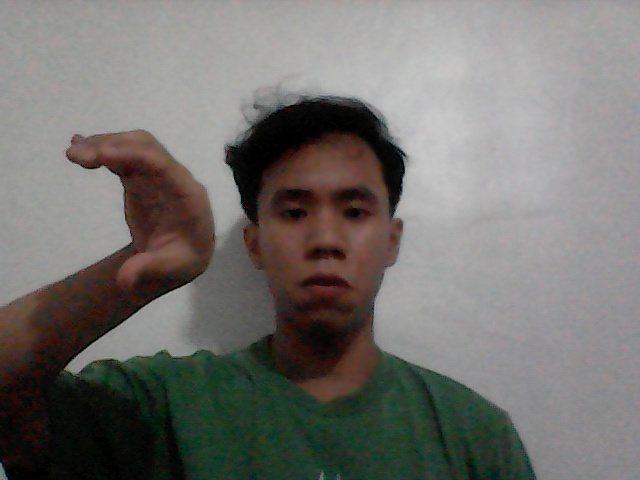C: (39, 114, 241, 326)
